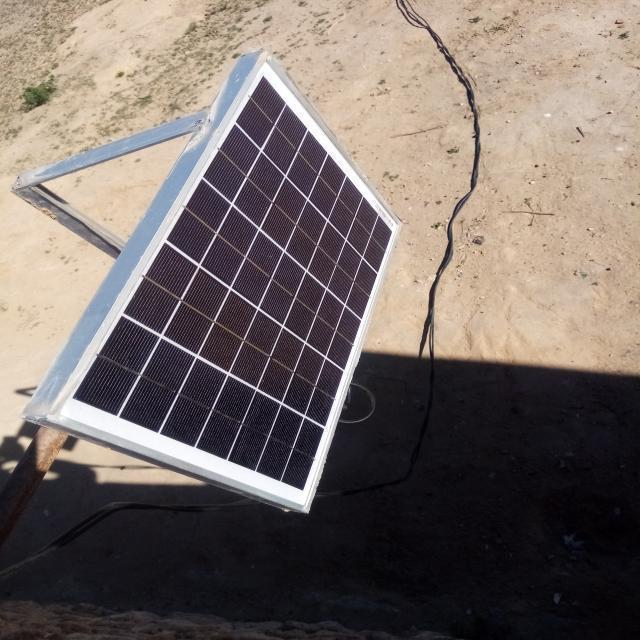Normal Solar Panel: (41, 52, 402, 511)
